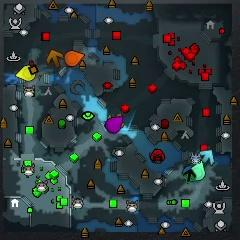p2: (191, 161, 206, 181)
p3: (105, 116, 124, 132)
p4: (16, 65, 36, 81)
p5: (65, 51, 84, 66)
x3: (199, 149, 213, 164)
x4Clone: (182, 168, 196, 184)
x5: (47, 50, 63, 66)
